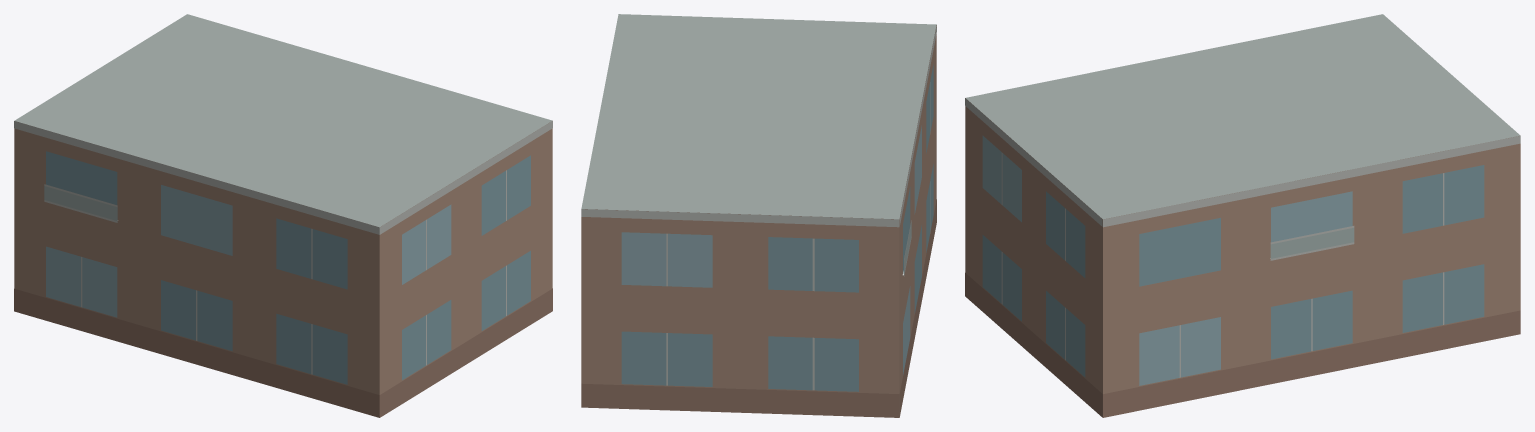
File: survey-upis-32704781.glb
The picture shows the model from 3 angles, left to right: view 1: azimuth 30°, elevation 25°; view 2: azimuth 150°, elevation 25°; view 3: azimuth 270°, elevation 25°; orthographic projection. The views are drawn at different scales.
Visible parts, largest first — view 1: survey-upis-32704781.tmp; view 2: survey-upis-32704781.tmp; view 3: survey-upis-32704781.tmp.
Part boxes in pixels (<box>): survey-upis-32704781.tmp: <box>14,14,552,417</box>; survey-upis-32704781.tmp: <box>581,14,936,417</box>; survey-upis-32704781.tmp: <box>965,14,1520,417</box>.
Size of the model in its own units: 13.55 by 6.1 by 15.48.
